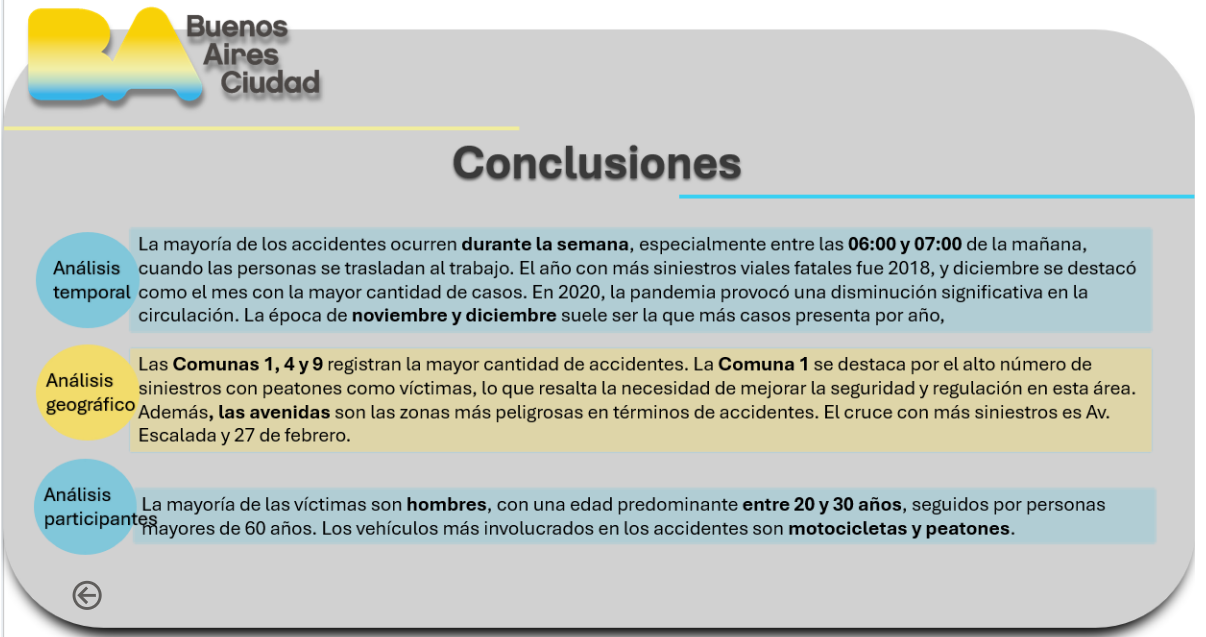

This screenshot's page, from the dashboard's own definition file:
{"tool":"powerbi","page":{"name":"Conclusiones","canvas":[1280,720],"ordinal":7},"visuals":[{"type":"actionButton","box":[87.2,614.5,100.2,40.4],"z":0},{"type":"actionButton","box":[1120.9,614.5,100.2,40.4],"z":1000}]}

Visuals, with their boxes on the page's 1280x720 design canvas (x1, y1, x2, y2). These are canvas units, not pixel positions in the 1206x637 screenshot, which may show the page scaled, cropped or inside an application window:
actionButton: bbox=[87, 614, 187, 655]
actionButton: bbox=[1121, 614, 1221, 655]
